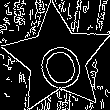O_NW: (28, 27, 86, 91)
